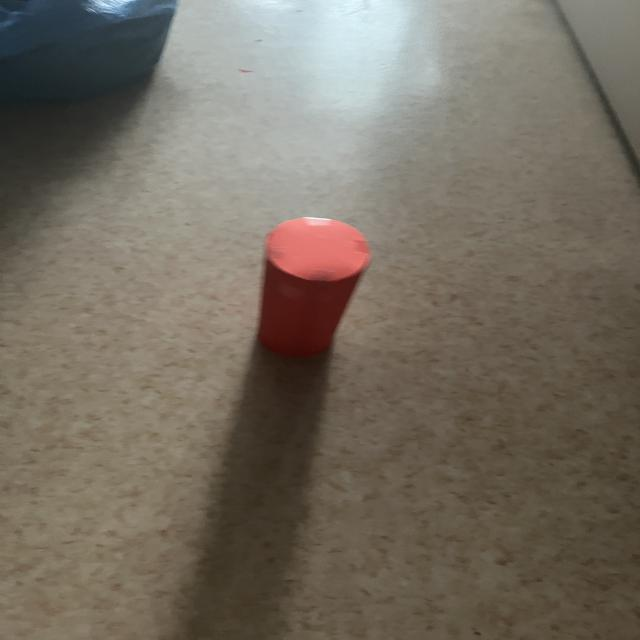przeszkoda: (258, 218, 370, 357)
